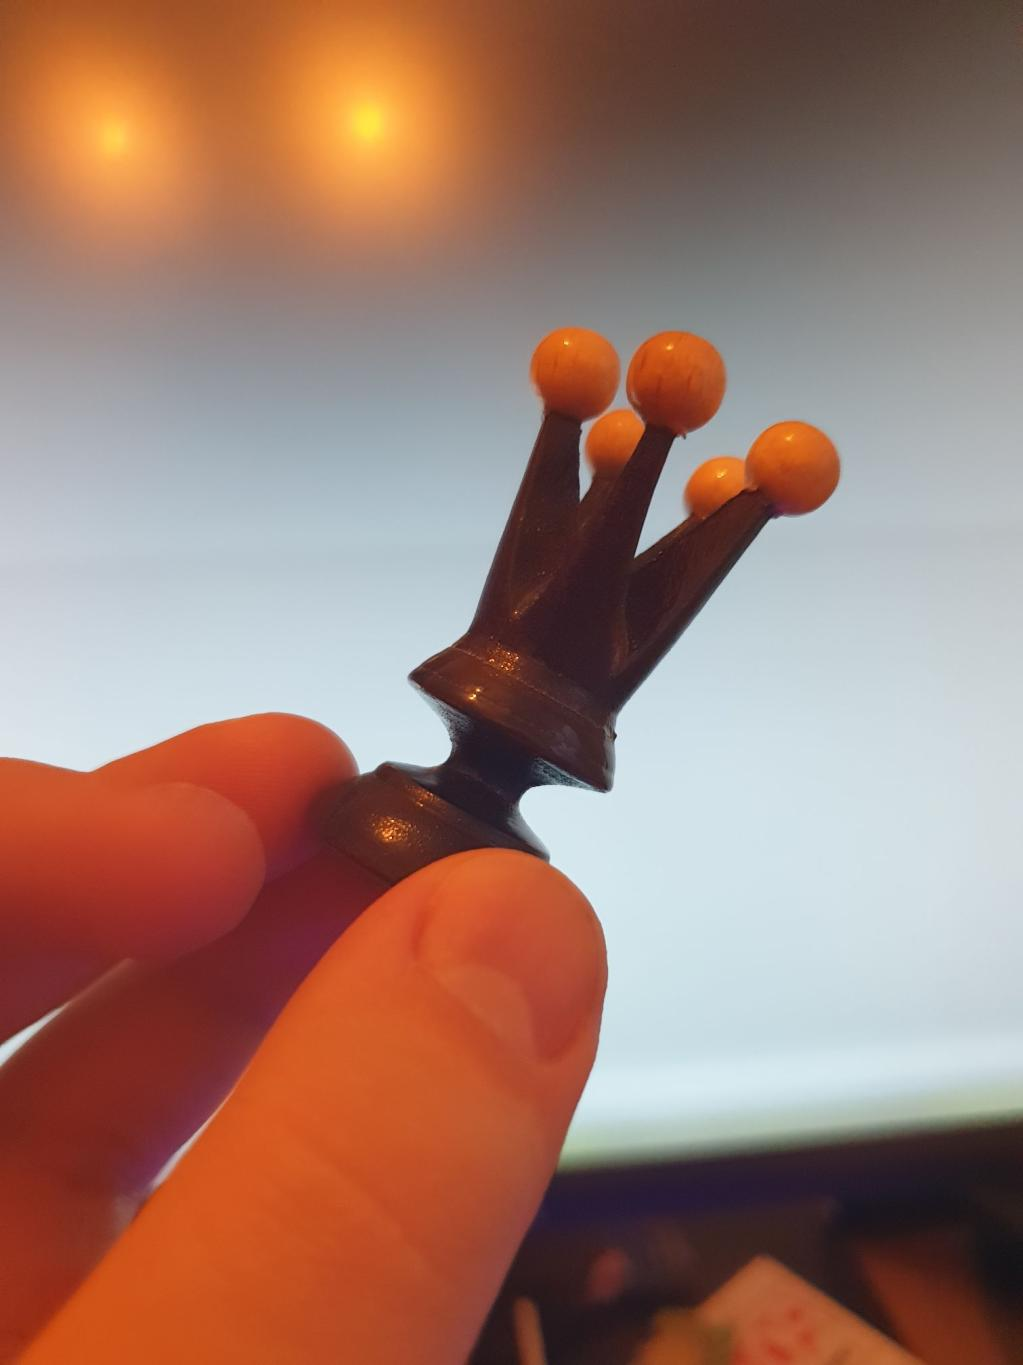bqueen: (309, 328, 837, 886)
